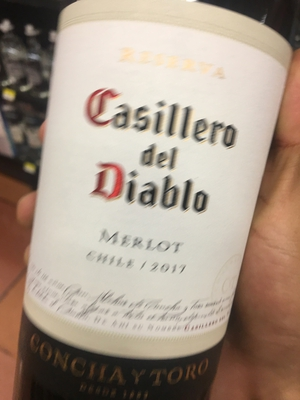casillero del diablo merlot: (27, 8, 284, 400)
